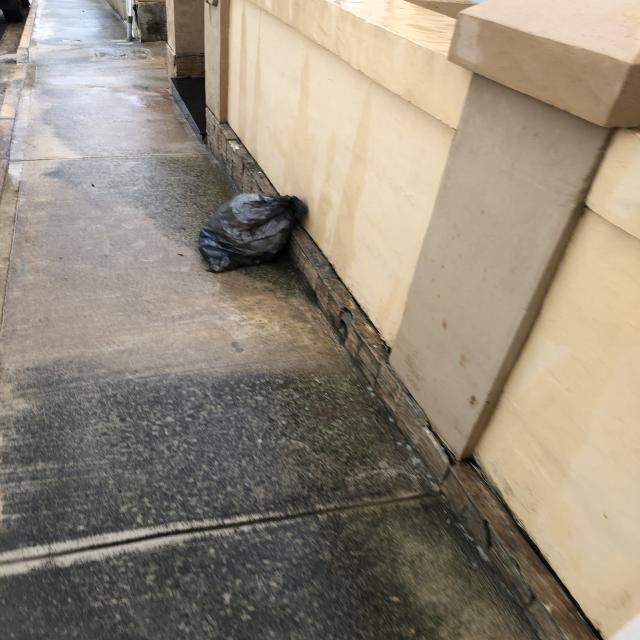Mixed Waste -Black Bag-: (200, 196, 307, 274)
